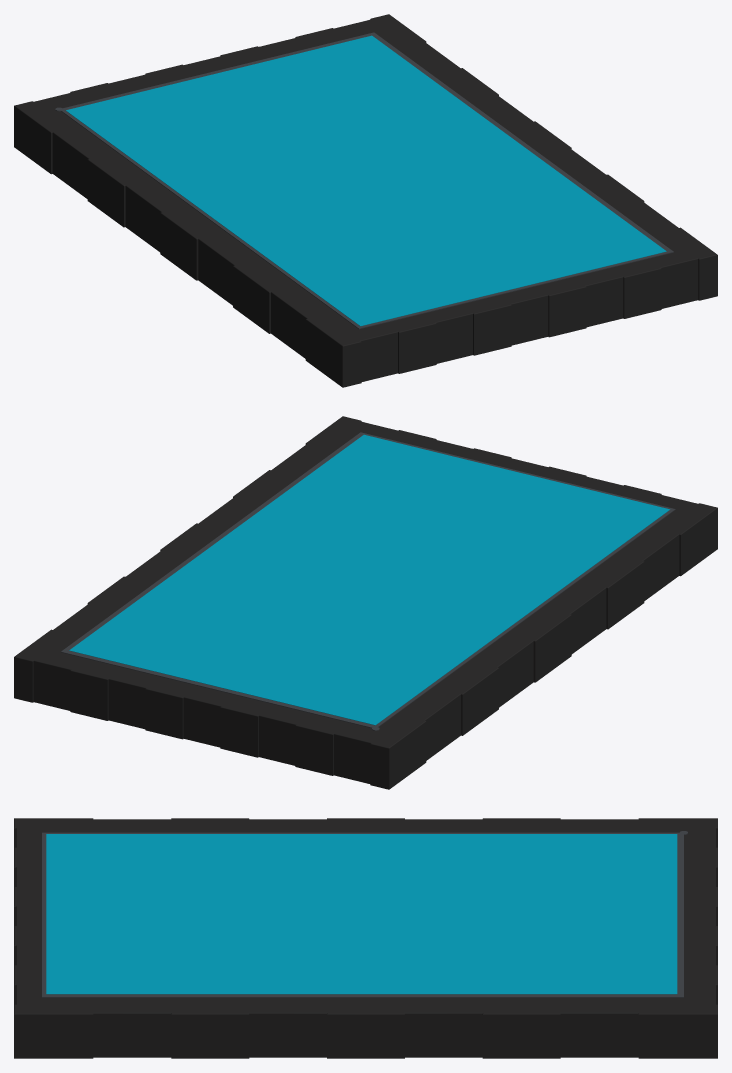
Rendered from kc-ea_ediptft70-xxx.glb.
The picture shows the model from 3 angles, top to bottom: view 1: azimuth 30°, elevation 25°; view 2: azimuth 150°, elevation 25°; view 3: azimuth 270°, elevation 25°; orthographic projection. The views are drawn at different scales.
Parts seen in each view (by area): view 1: 0_0.3333333333333333_0.5_0, 0_0_0_0, 0.08333333333333333_0.08333333333333333_0.08333333333333333_; view 2: 0_0.3333333333333333_0.5_0, 0_0_0_0, 0.08333333333333333_0.08333333333333333_0.08333333333333333_; view 3: 0_0.3333333333333333_0.5_0, 0_0_0_0, 0.08333333333333333_0.08333333333333333_0.08333333333333333_.
Boxes of the visible parts, box(x1,y1,x2,y2) form: 0_0.3333333333333333_0.5_0: box(66, 35, 666, 326); 0_0_0_0: box(14, 14, 717, 387); 0.08333333333333333_0.08333333333333333_0.08333333333333333_: box(55, 32, 673, 329); 0_0.3333333333333333_0.5_0: box(69, 434, 669, 725); 0_0_0_0: box(14, 416, 717, 789); 0.08333333333333333_0.08333333333333333_0.08333333333333333_: box(61, 432, 675, 730); 0_0.3333333333333333_0.5_0: box(46, 834, 677, 994); 0_0_0_0: box(14, 818, 717, 1058); 0.08333333333333333_0.08333333333333333_0.08333333333333333_: box(42, 831, 687, 997).
Size of the model in its own units: 11.2 by 1.72 by 17.
